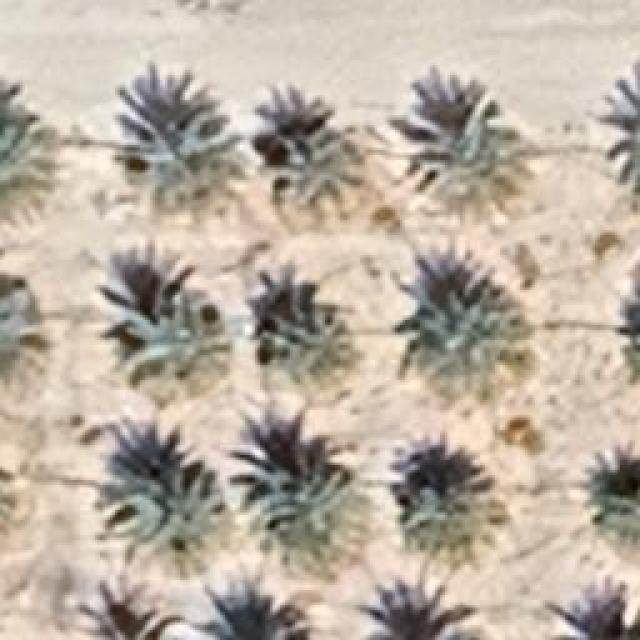PalmTree: (71, 50, 256, 615), (10, 101, 71, 503), (112, 80, 245, 212), (410, 295, 530, 400), (106, 272, 216, 380), (416, 92, 519, 206), (90, 465, 230, 540), (392, 475, 510, 555), (259, 446, 349, 544), (260, 298, 360, 380), (270, 128, 360, 215), (0, 275, 45, 393), (587, 458, 640, 553), (598, 60, 638, 185), (0, 118, 45, 228), (92, 585, 166, 640), (380, 595, 470, 640), (557, 595, 640, 640), (612, 275, 640, 380), (0, 455, 17, 553), (0, 458, 12, 553)
